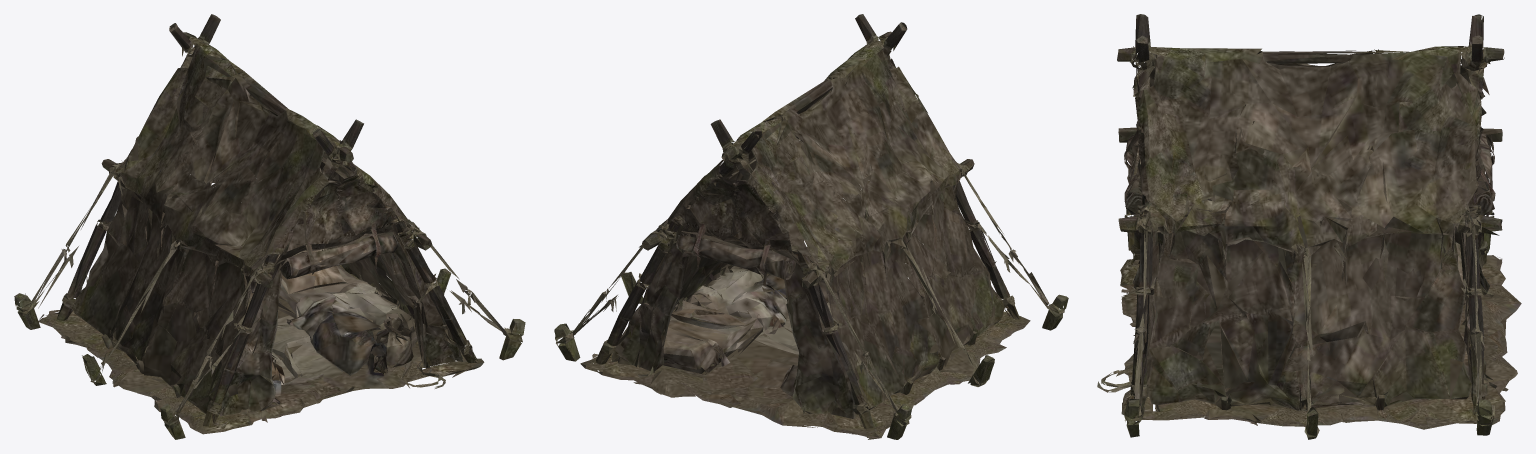
The model's file is tent.glb.
3 views of the same model, side by side, from view 1: azimuth 30°, elevation 25°; view 2: azimuth 150°, elevation 25°; view 3: azimuth 270°, elevation 25° (orthographic). The views are drawn at different scales.
Visible parts, largest first — view 1: Mesh_0; view 2: Mesh_0; view 3: Mesh_0.
Part boxes in pixels (<box>): Mesh_0: <box>14,14,525,439</box>; Mesh_0: <box>554,14,1068,439</box>; Mesh_0: <box>1097,14,1521,439</box>.
Size of the model in its own units: 4.03 by 2.9 by 3.46.
Materials: 1 (1 with a texture image).
